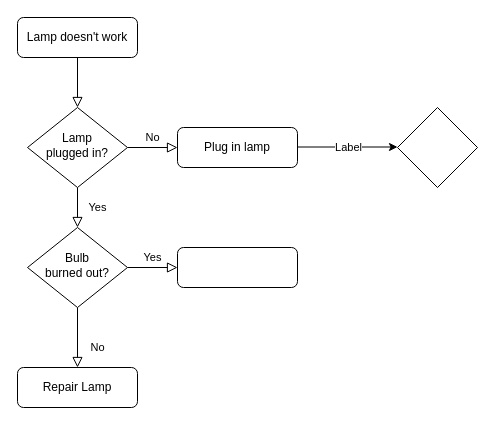
The diagram is 495 pixels wide and 425 high, and some of its shapes have lost their labels. Here are the shapes that lost their labels. From the top down, the box of each, then its label:
(396, 106, 478, 188): test
(176, 246, 298, 288): Replace Bulb
